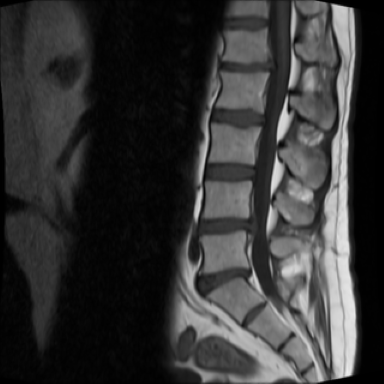Degenerative Disc Disease (DDD): (195, 267, 265, 298)
Lumbar Disc Bulge (LDB): (193, 263, 262, 302), (196, 213, 266, 239)
Normal IVD: (205, 104, 272, 131), (201, 157, 261, 187), (218, 15, 276, 33)
Spinal Stenosis (SS): (239, 211, 265, 242), (233, 263, 262, 286), (260, 55, 281, 78)
Spondylolisthesis: (190, 255, 265, 313)
Thoracic Disc Bulge (TDB): (215, 55, 285, 77)
